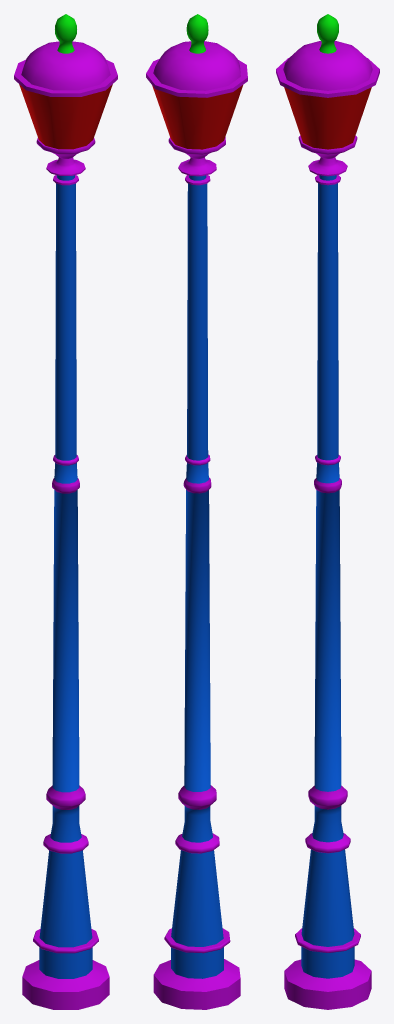
File: Unwrapped_Lamp.fbx
The picture shows the model from 3 angles, left to right: view 1: azimuth 90°, elevation 25°; view 2: azimuth 150°, elevation 25°; view 3: azimuth 270°, elevation 25°; orthographic projection.
Parts seen in each view (by area): view 1: lantern; view 2: lantern; view 3: lantern.
Boxes of the visible parts, box(x1,y1,x2,y2) form: lantern: box(14, 14, 117, 1009); lantern: box(146, 14, 247, 1009); lantern: box(276, 14, 379, 1009).
Bounding box in the file's own units: 41.31 × 442 × 42.56.
